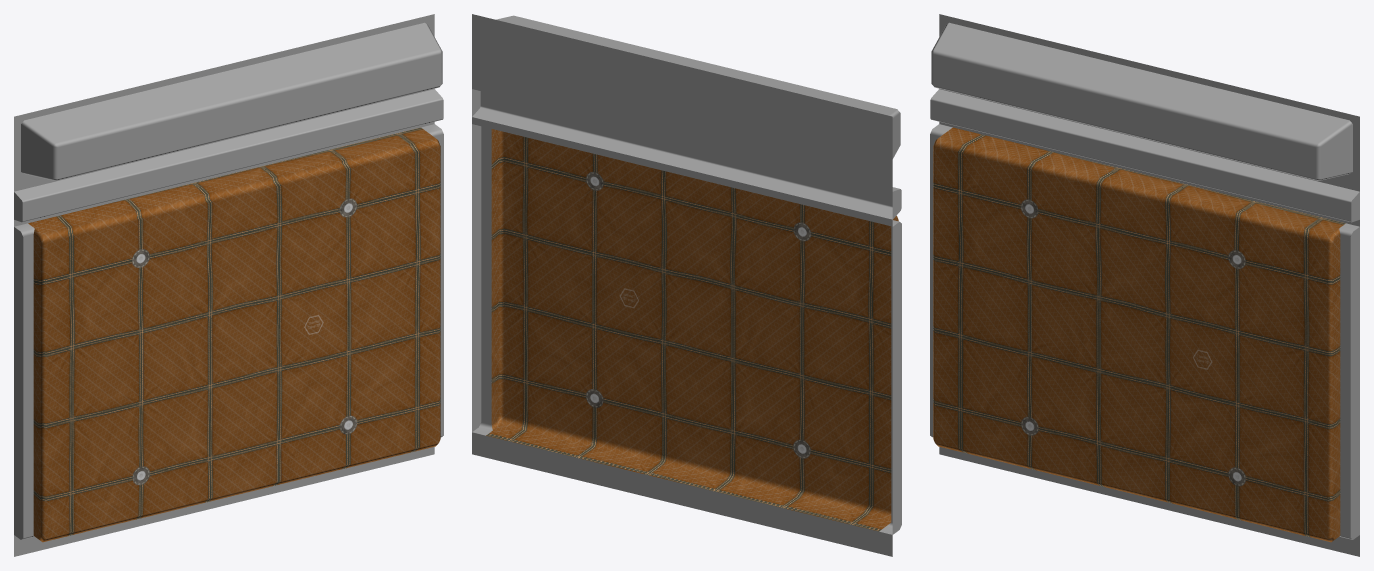
File: Wall_171_Insulation_2x2.fbx
3 views of the same model, side by side, from view 1: azimuth 30°, elevation 25°; view 2: azimuth 150°, elevation 25°; view 3: azimuth 330°, elevation 25° (orthographic).
Parts seen in each view (by area): view 1: Wall_171_Insulation_2x2; view 2: Wall_171_Insulation_2x2; view 3: Wall_171_Insulation_2x2.
Boxes of the visible parts, x1,y1,x2,y2 form: Wall_171_Insulation_2x2: (14, 14, 443, 556); Wall_171_Insulation_2x2: (472, 14, 901, 556); Wall_171_Insulation_2x2: (930, 14, 1359, 556).
Size of the model in its own units: 2 by 2 by 0.2055.
